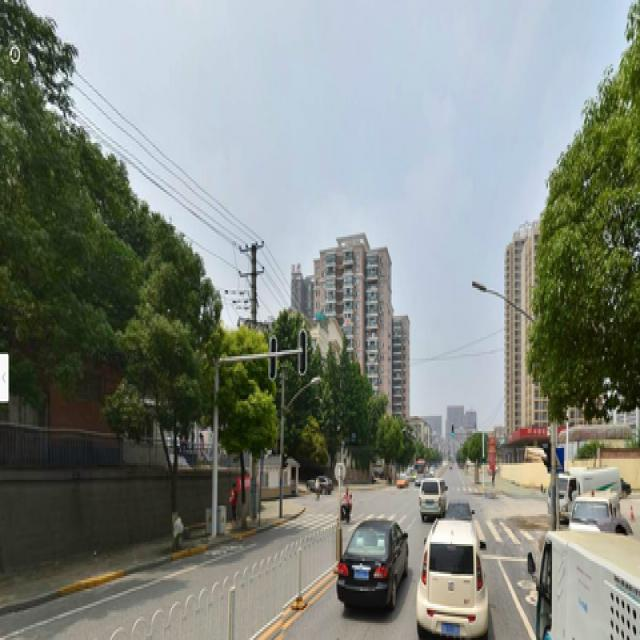cinn: (136, 239, 205, 518), (222, 326, 262, 504)
